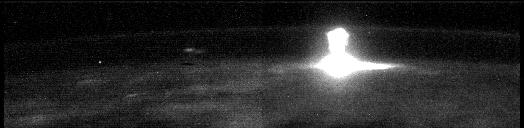positive: (323, 25, 350, 55)
